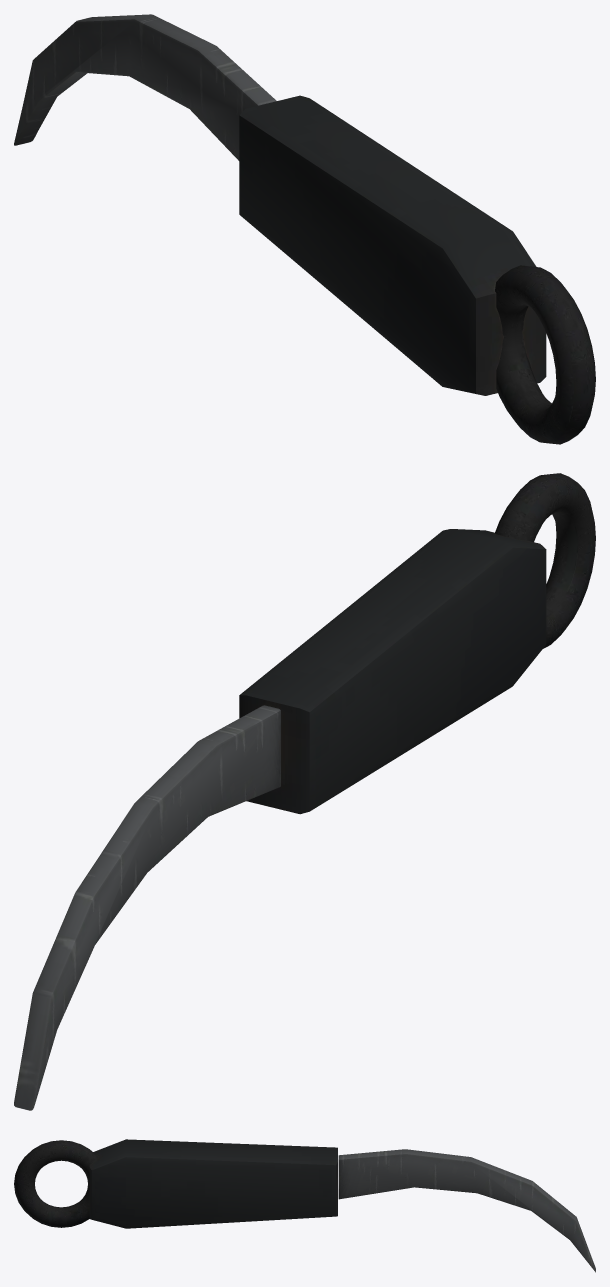
The model's file is knife_karambit.glb.
The picture shows the model from 3 angles, top to bottom: view 1: azimuth 30°, elevation 25°; view 2: azimuth 150°, elevation 25°; view 3: azimuth 270°, elevation 25°; orthographic projection. The views are drawn at different scales.
Visible parts, largest first — view 1: body_furniture, body_receiver; view 2: body_furniture, body_receiver; view 3: body_furniture, body_receiver.
Boxes of the visible parts, x1,y1,x2,y2 form: body_furniture: (239, 95, 546, 395); body_receiver: (14, 14, 595, 444); body_furniture: (239, 529, 546, 814); body_receiver: (14, 473, 595, 1110); body_furniture: (89, 1139, 337, 1228); body_receiver: (14, 1140, 595, 1272).
Bounding box in the file's own units: 0.021 × 0.0657 × 0.2673.
2 materials, 2 textured.
